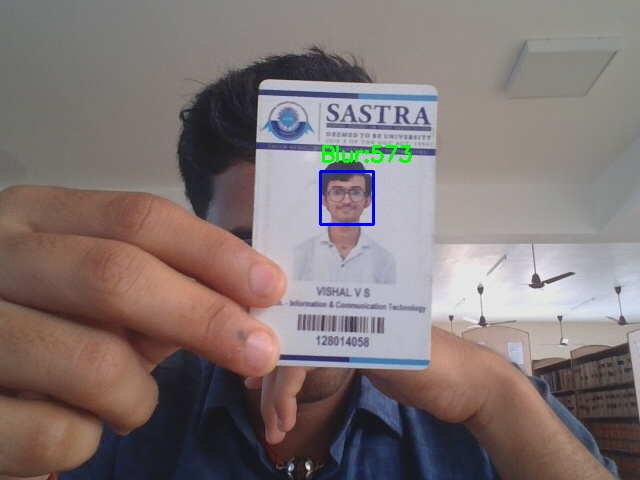fake: (320, 171, 373, 224)
